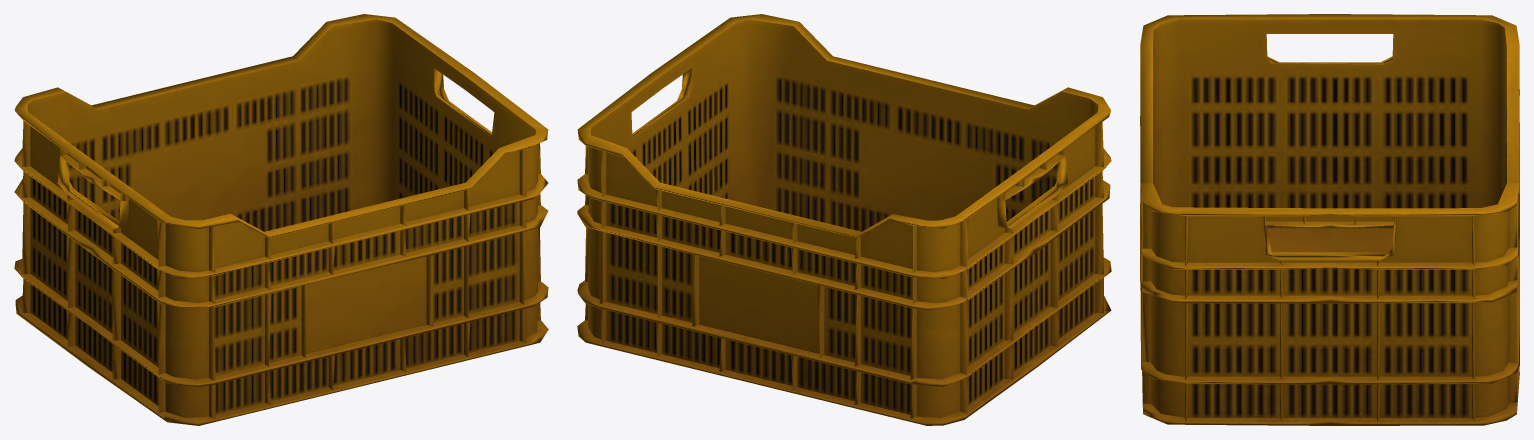
Rendered from crate.glb.
3 renders of one model, left to right at view 1: azimuth 30°, elevation 25°; view 2: azimuth 150°, elevation 25°; view 3: azimuth 270°, elevation 25°, orthographic. The views are drawn at different scales.
Visible parts, largest first — view 1: plastic_crate_02; view 2: plastic_crate_02; view 3: plastic_crate_02.
Part boxes in pixels (x1,y1,x2,y2): plastic_crate_02: [14, 14, 548, 425]; plastic_crate_02: [577, 14, 1111, 425]; plastic_crate_02: [1140, 14, 1519, 425].
Bounding box in the file's own units: 0.5055 × 0.2541 × 0.4055.
1 material, 1 textured.
